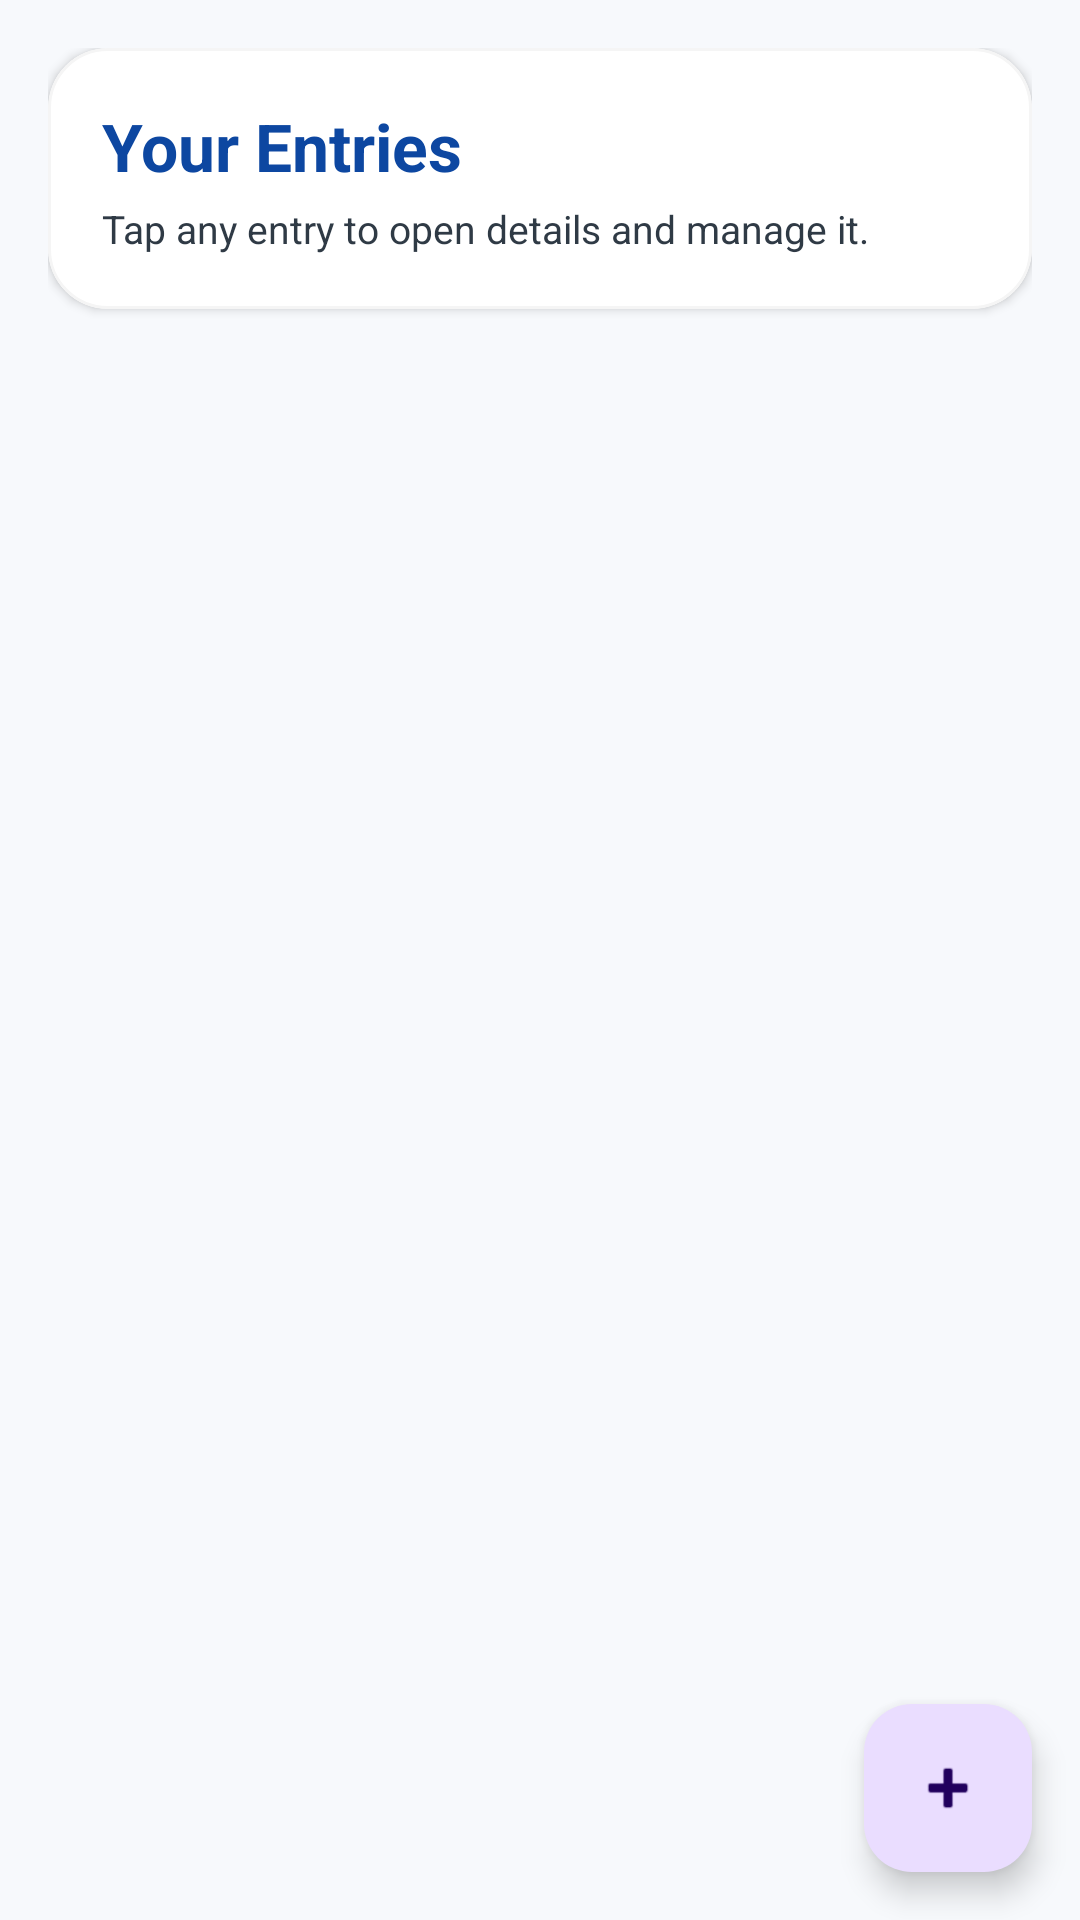

Icons on this 1080 × 1920 Android screen, each with its box as (x1, y1, x2, y2):
Add New Entry: (864, 1704, 1032, 1872)
